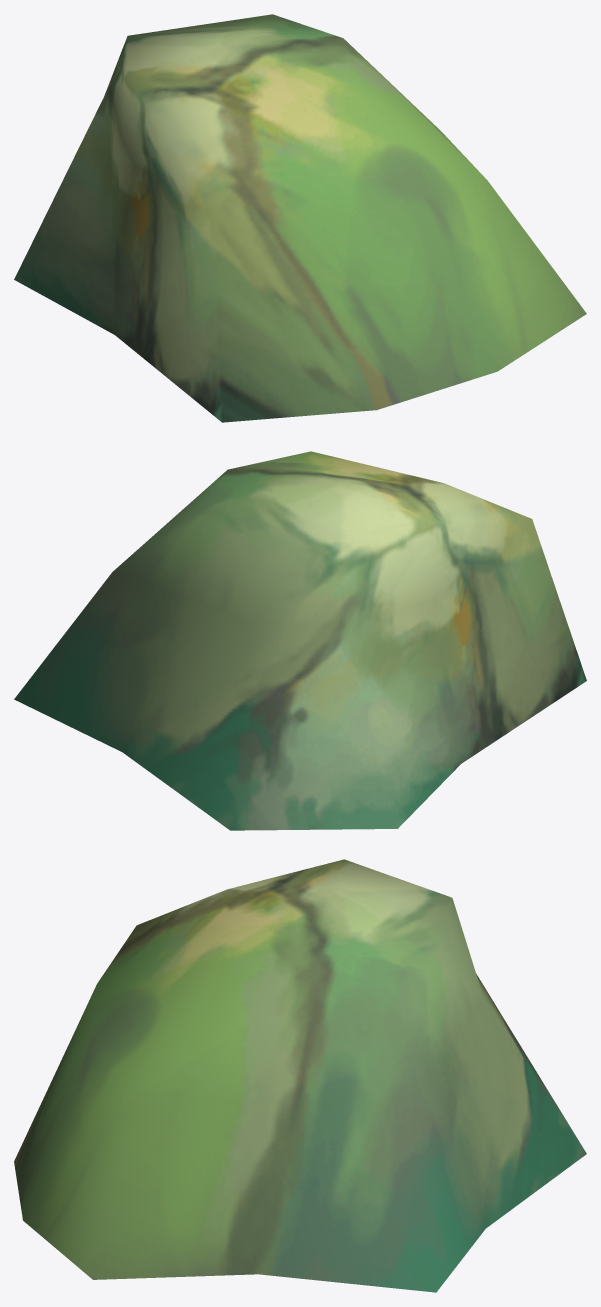
3 renders of one model, top to bottom at view 1: azimuth 30°, elevation 25°; view 2: azimuth 150°, elevation 25°; view 3: azimuth 270°, elevation 25°, orthographic. The views are drawn at different scales.
Visible parts, largest first — view 1: st01; view 2: st01; view 3: st01.
Part boxes in pixels (box(x1,y1,x2,y2)): st01: box(14, 14, 586, 422); st01: box(14, 451, 586, 830); st01: box(14, 859, 586, 1292).
Bounding box in the file's own units: 7.72 × 8.93 × 4.65.
